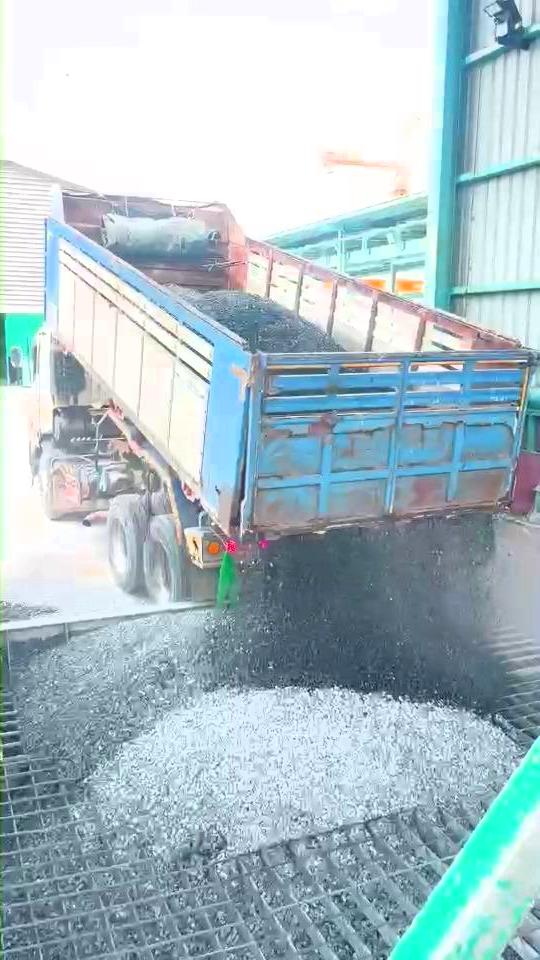gravel: (88, 687, 520, 861), (208, 515, 497, 714), (12, 612, 212, 779), (168, 285, 341, 350), (1, 601, 54, 621)
